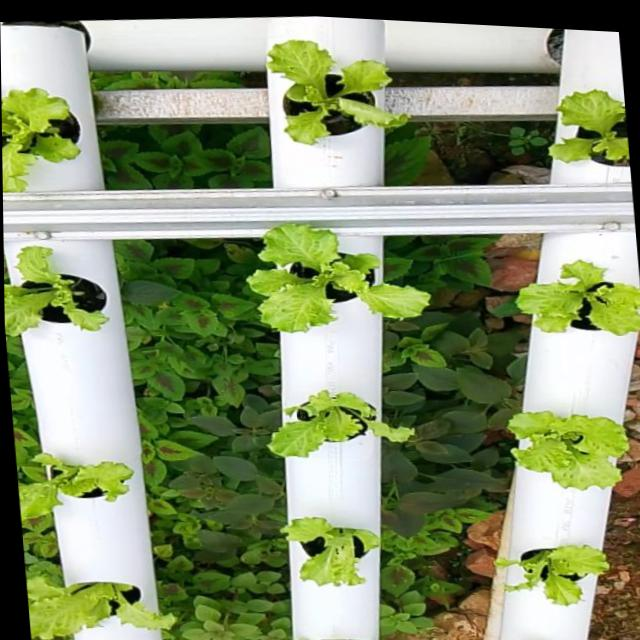Baby: (252, 227, 432, 333), (274, 45, 414, 149), (4, 247, 115, 339), (270, 390, 416, 456), (507, 411, 629, 489), (27, 572, 176, 635), (517, 263, 640, 338), (1, 93, 89, 194), (18, 450, 138, 517), (494, 543, 608, 603), (283, 515, 381, 583), (552, 95, 630, 169)
